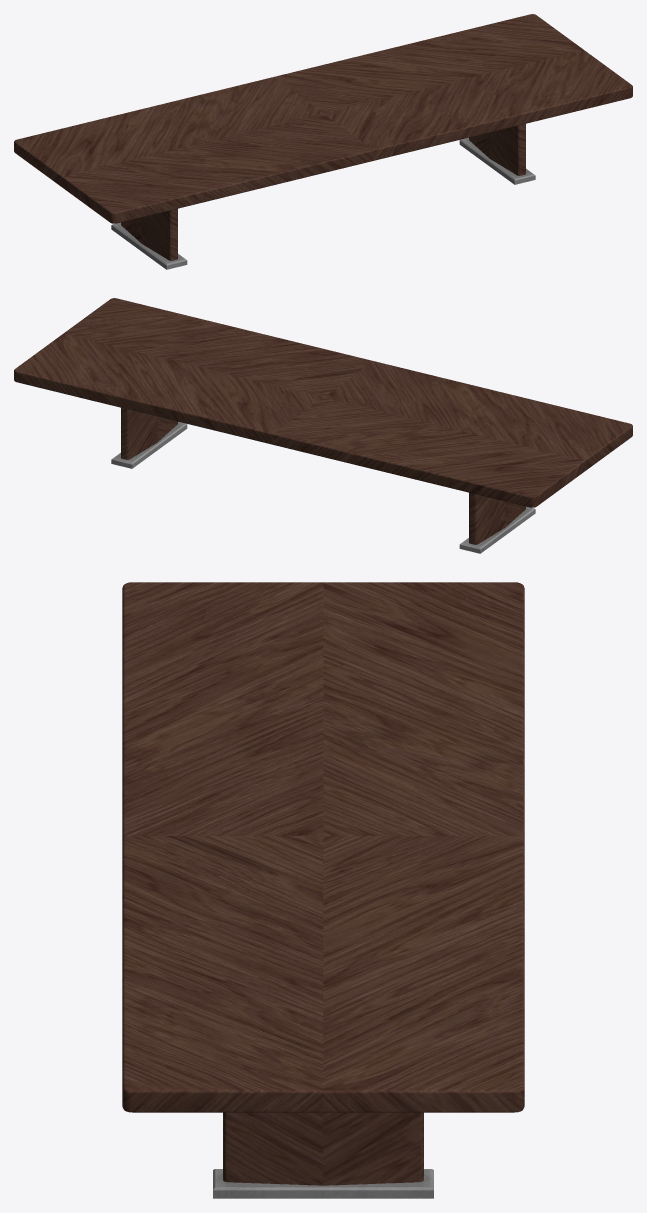
File: conference_table.glb
3 views of the same model, one above another, from view 1: azimuth 30°, elevation 25°; view 2: azimuth 150°, elevation 25°; view 3: azimuth 270°, elevation 25° (orthographic). The views are drawn at different scales.
Visible parts, largest first — view 1: ConferenceTable1; view 2: ConferenceTable1; view 3: ConferenceTable1.
Part boxes in pixels (<box>): ConferenceTable1: <box>14,14,632,269</box>; ConferenceTable1: <box>14,298,632,553</box>; ConferenceTable1: <box>122,582,524,1198</box>.
Size of the model in its own units: 6 by 1 by 2.
Materials: 1 (1 with a texture image).
